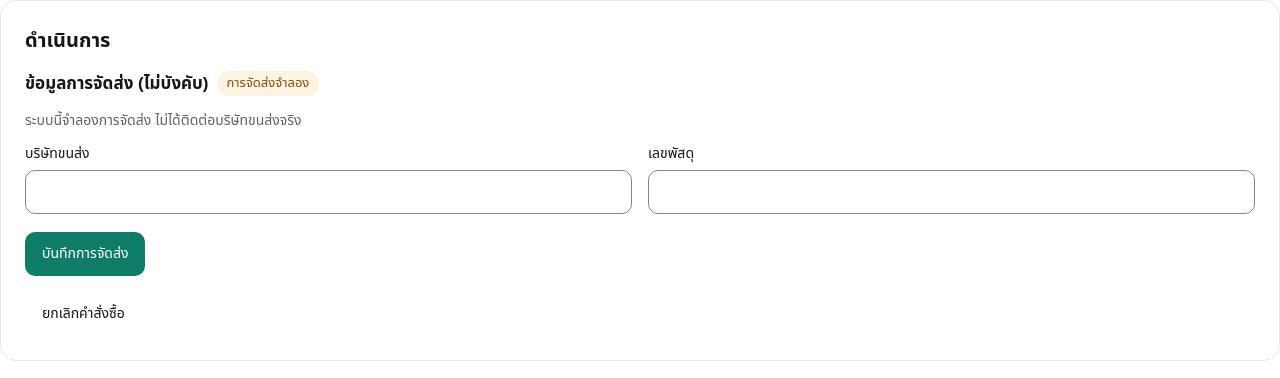
it: OrderStatusPanel › ships with an optional carrier and tracking number, omitting blank fields
Expected: the text "การจัดส่งจำลอง" is shown, [216, 71, 319, 96]
Type "TH123" into the field labelled "เลขพัสดุ" at [952, 192], box [648, 170, 1255, 214]
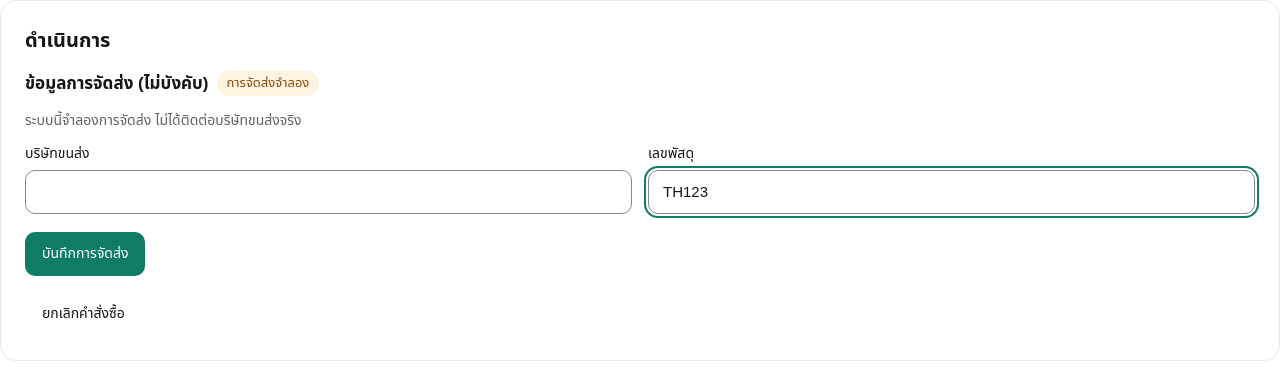
Click the button "บันทึกการจัดส่ง" at [85, 254], box [25, 232, 146, 276]
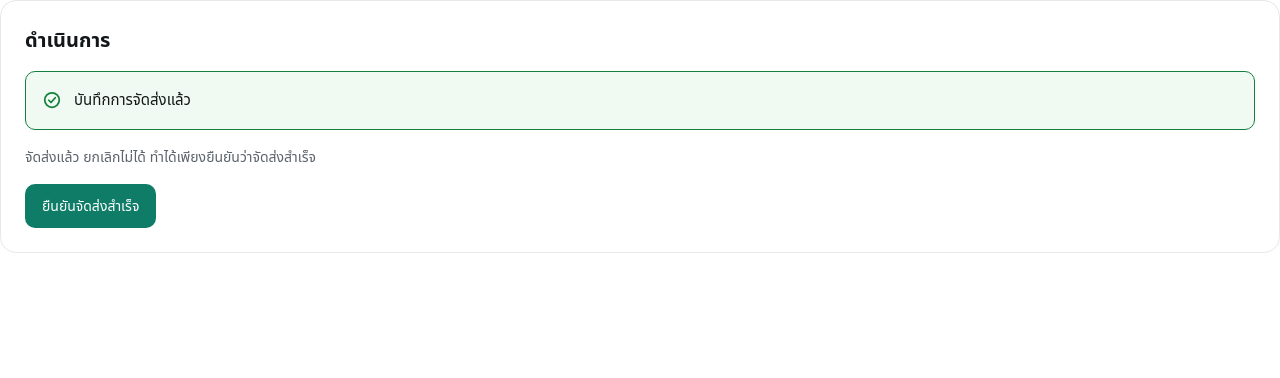
Now the text "บันทึกการจัดส่งแล้ว" is shown, box [74, 91, 191, 108]
